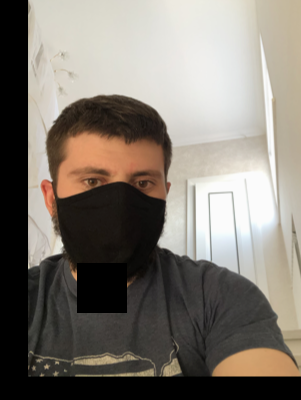with_mask: (55, 153, 168, 287)
